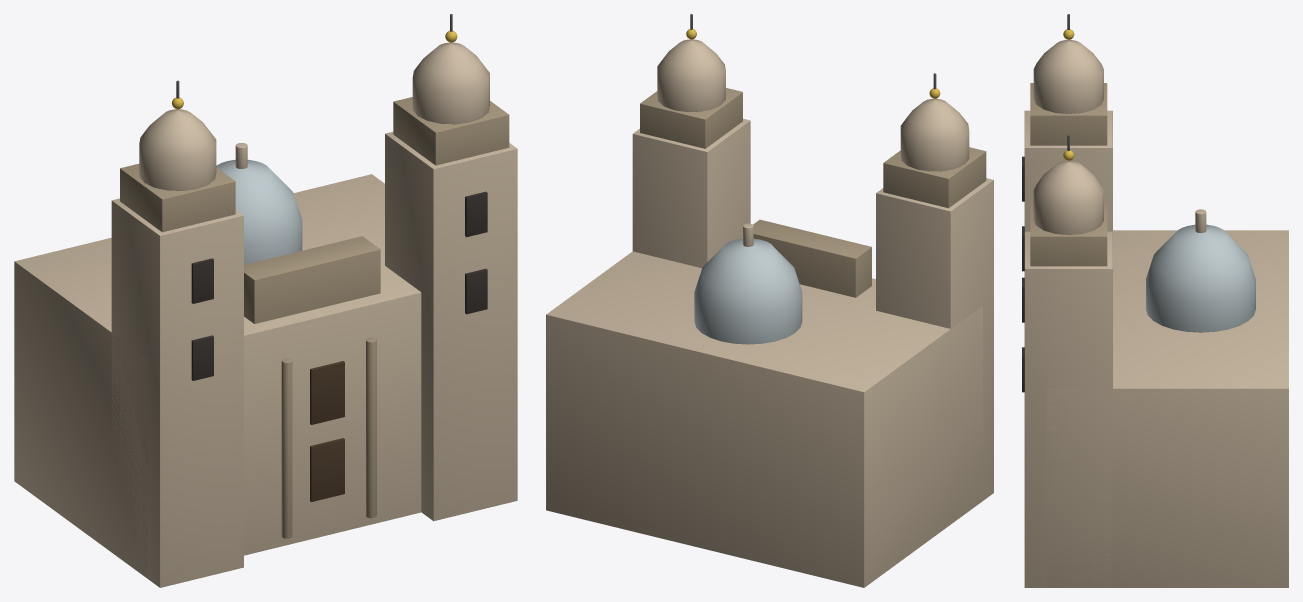
Rendered from marco_mexico.glb.
3 renders of one model, left to right at view 1: azimuth 30°, elevation 25°; view 2: azimuth 150°, elevation 25°; view 3: azimuth 270°, elevation 25°, orthographic. The views are drawn at different scales.
Parts seen in each view (by area): view 1: marco_mexico; view 2: marco_mexico; view 3: marco_mexico.
Part boxes in pixels (x1,y1,x2,y2): marco_mexico: [14, 14, 517, 587]; marco_mexico: [546, 14, 993, 587]; marco_mexico: [1022, 14, 1288, 587].
Bounding box in the file's own units: 34 × 43.5 × 24.25.
